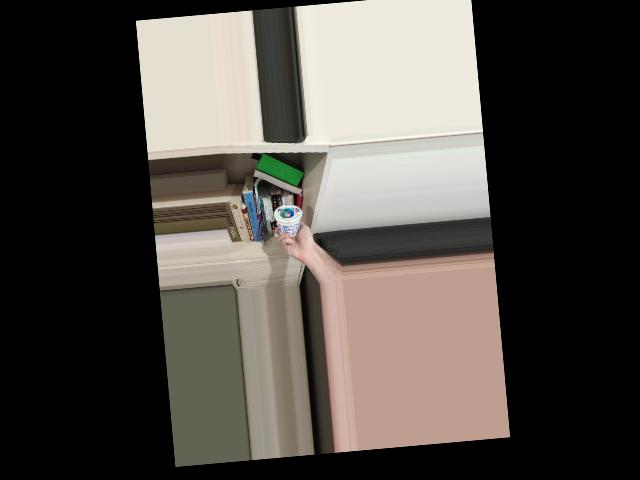cotage: (272, 202, 303, 244)
